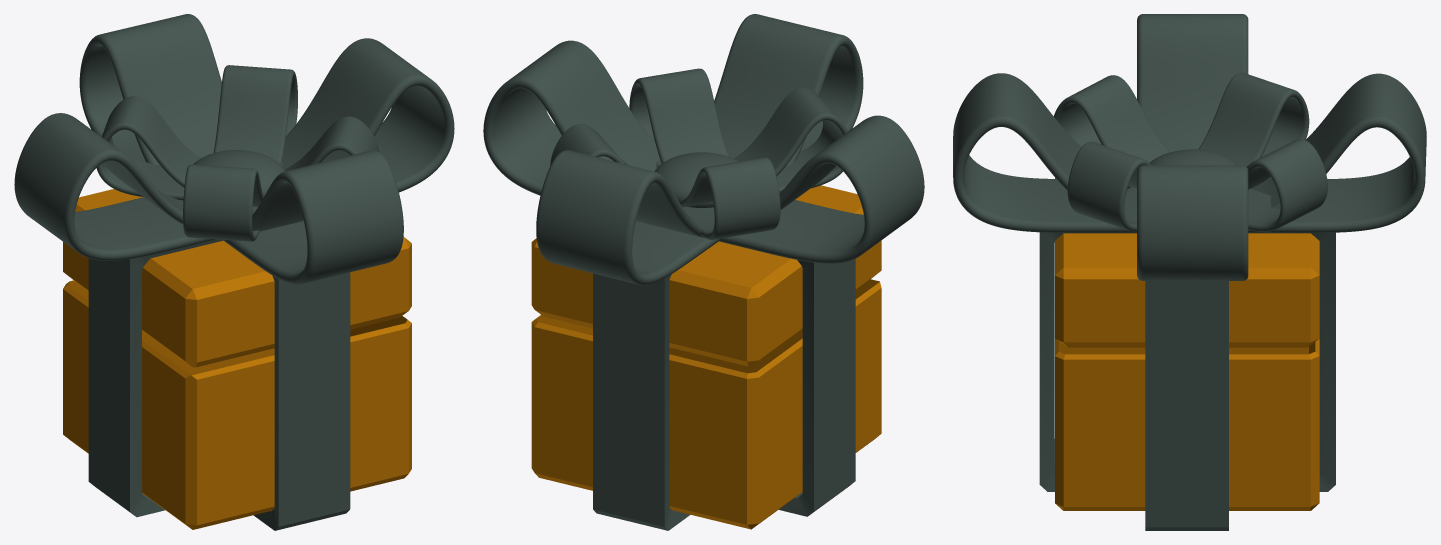
File: Gift.fbx
3 renders of one model, left to right at view 1: azimuth 30°, elevation 25°; view 2: azimuth 150°, elevation 25°; view 3: azimuth 270°, elevation 25°, orthographic.
Parts seen in each view (by area): view 1: Box, Bow, Lid, NurbsPath.002, NurbsPath, NurbsPath.003, NurbsPath.001, NurbsPath.004, NurbsPath.005, NurbsPath.007, NurbsPath.006, Sphere; view 2: Box, Bow, Lid, NurbsPath.003, NurbsPath, NurbsPath.001, NurbsPath.002, NurbsPath.006, NurbsPath.007, NurbsPath.005, Sphere, NurbsPath.004; view 3: Box, Bow, Lid, NurbsPath.002, NurbsPath.001, NurbsPath.003, NurbsPath, NurbsPath.007, NurbsPath.005, NurbsPath.004, NurbsPath.006, Sphere.
Part boxes in pixels (x1,y1,x2,y2): Box: (63,280,411,529); Bow: (88,239,350,530); Lid: (63,189,411,367); NurbsPath.002: (222,150,403,284); NurbsPath: (14,113,215,260); NurbsPath.003: (79,14,221,164); NurbsPath.001: (282,38,454,192); NurbsPath.004: (213,65,297,166); NurbsPath.005: (183,164,263,241); NurbsPath.007: (96,96,201,200); NurbsPath.006: (284,116,379,171); Sphere: (193,150,284,197); Box: (531,279,881,529); Bow: (593,259,855,530); Lid: (531,185,881,366); NurbsPath.003: (536,150,719,285); NurbsPath: (719,115,924,263); NurbsPath.001: (483,40,659,195); NurbsPath.002: (714,14,863,165); NurbsPath.006: (629,68,728,167); NurbsPath.007: (679,157,780,239); NurbsPath.005: (734,88,848,191); Sphere: (654,152,738,207); NurbsPath.004: (550,124,627,166); Box: (1055,339,1319,510); Bow: (1039,232,1335,530); Lid: (1055,178,1319,347); NurbsPath.002: (953,73,1136,232); NurbsPath.001: (1137,165,1248,280); NurbsPath.003: (1248,73,1426,232); NurbsPath: (1137,14,1248,152); NurbsPath.007: (1198,72,1309,166); NurbsPath.005: (1053,75,1169,188); NurbsPath.004: (1247,139,1327,231); NurbsPath.006: (1067,141,1151,231); Sphere: (1150,149,1237,165).
Size of the model in its own units: 167 by 154 by 174.
